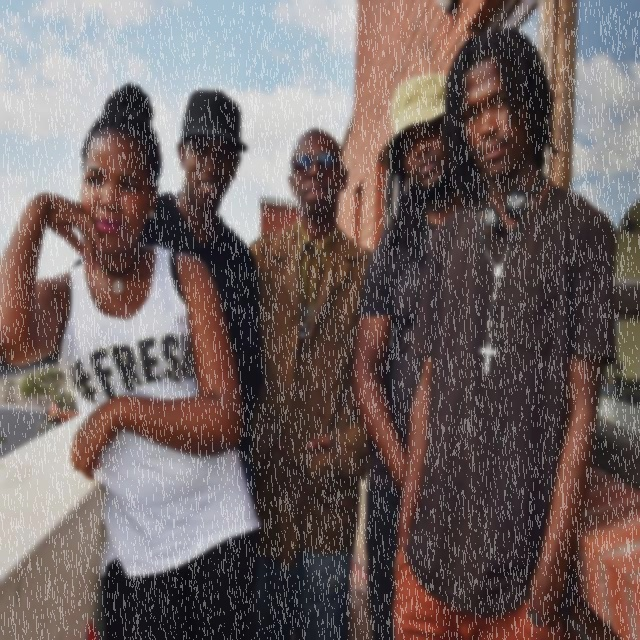pessoa: (0, 78, 270, 639), (380, 21, 622, 639), (351, 72, 486, 639), (236, 127, 376, 639), (140, 88, 264, 504)
